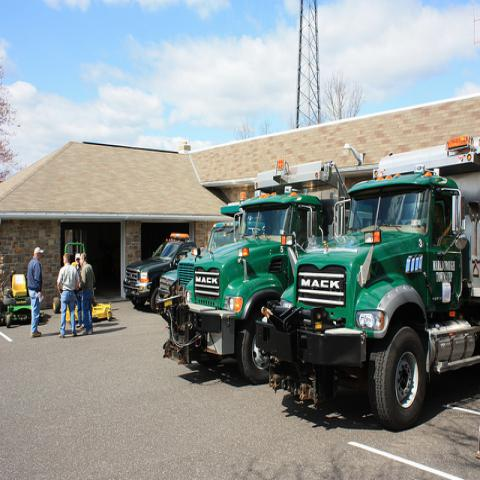car: (123, 233, 198, 313)
truck: (268, 150, 480, 437), (178, 157, 373, 379), (118, 235, 199, 310)
